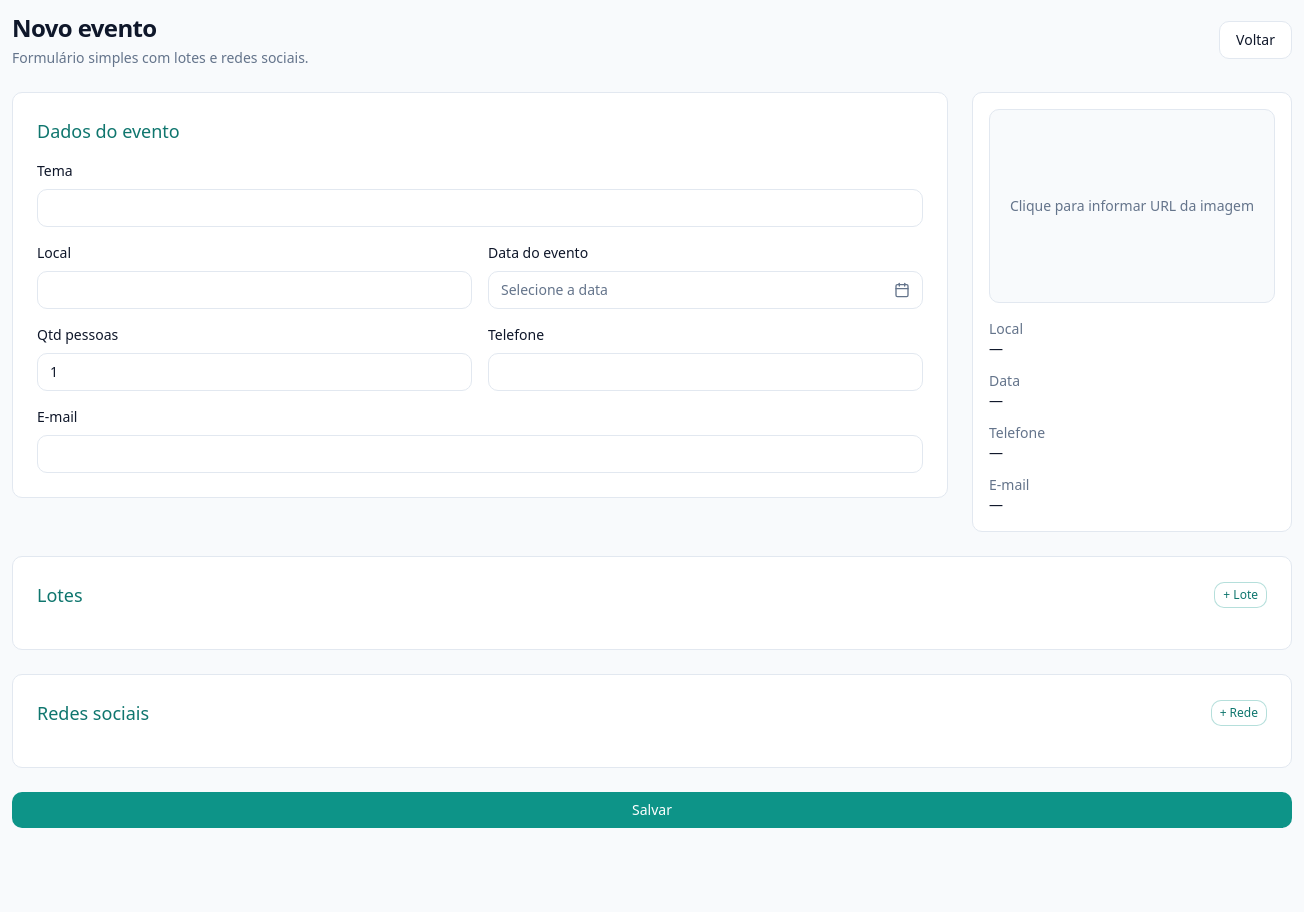
Test: EventoDetailPage › espelha dataEvento no preview ao alterar o DatePicker
expect the field labelled "Local" is shown: met, box [37,271,472,309]
Replace the text in the field with id "dataEvento" with "2026-07-20" at (706, 276), box [488,243,923,309]
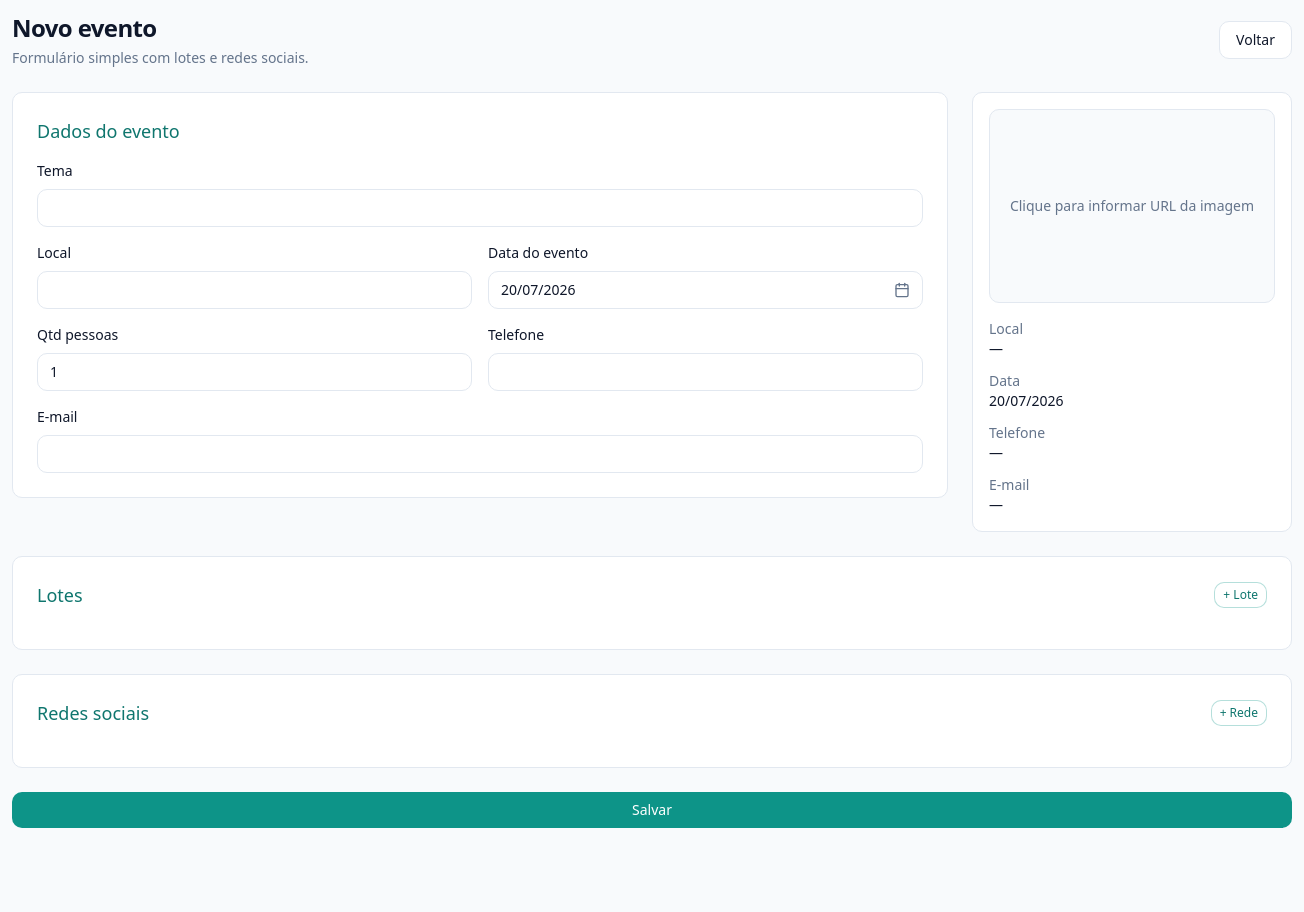
expect the element with test id "evento-preview-card" shows "20/07/2026": met, box [989,391,1064,410]
